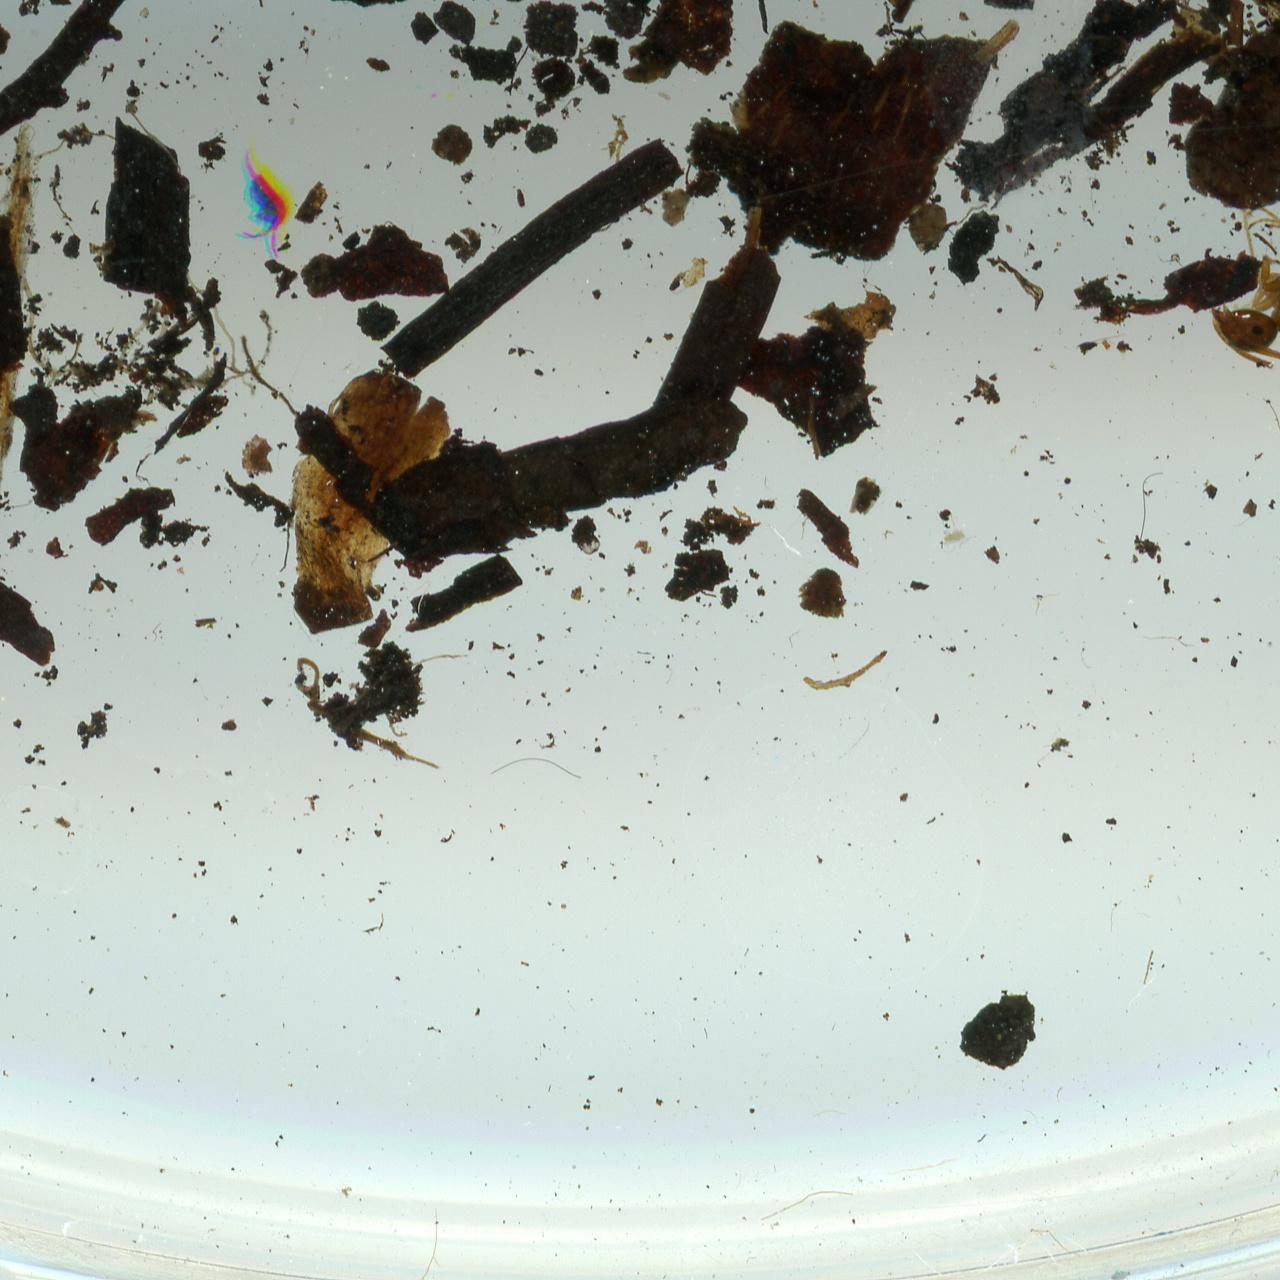arthropod: (1209, 202, 1280, 370), (239, 147, 285, 256)
